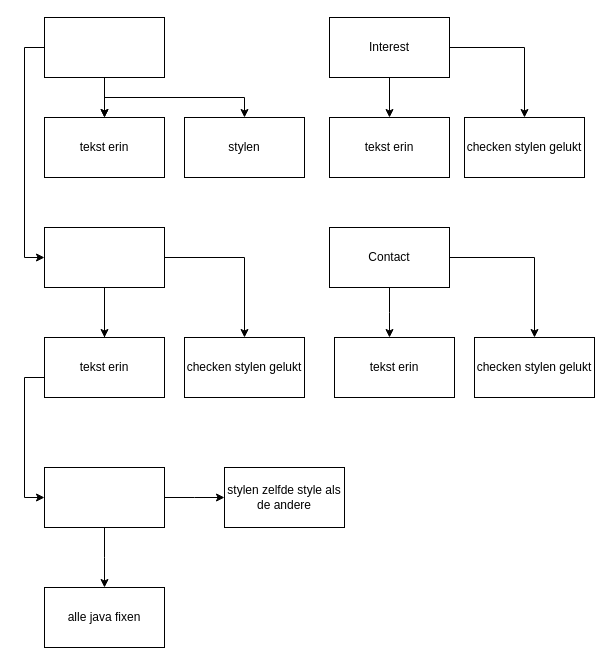
Image size: 612x665. Some labels were removed from this diagram. The centre of each missing label's shape, as x and y in pixels:
"About" belongs at [104,47].
"Home pagina maken" belongs at [104,497].
"Projects" belongs at [104,257].
